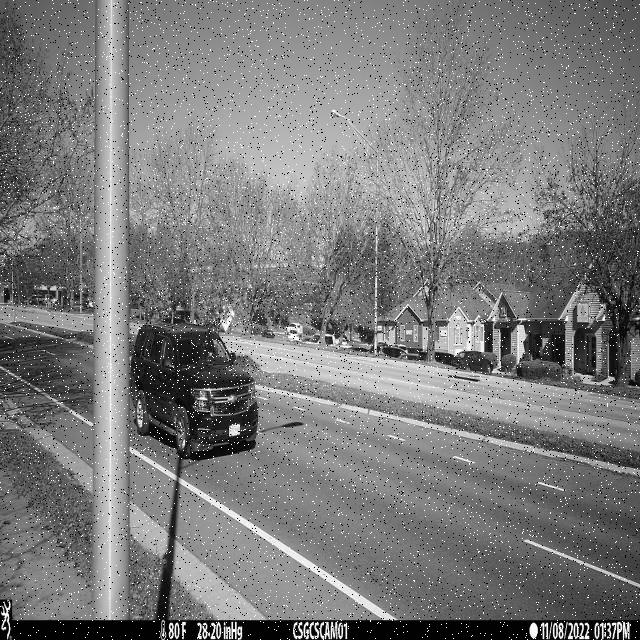SUV: (130, 320, 259, 460)
